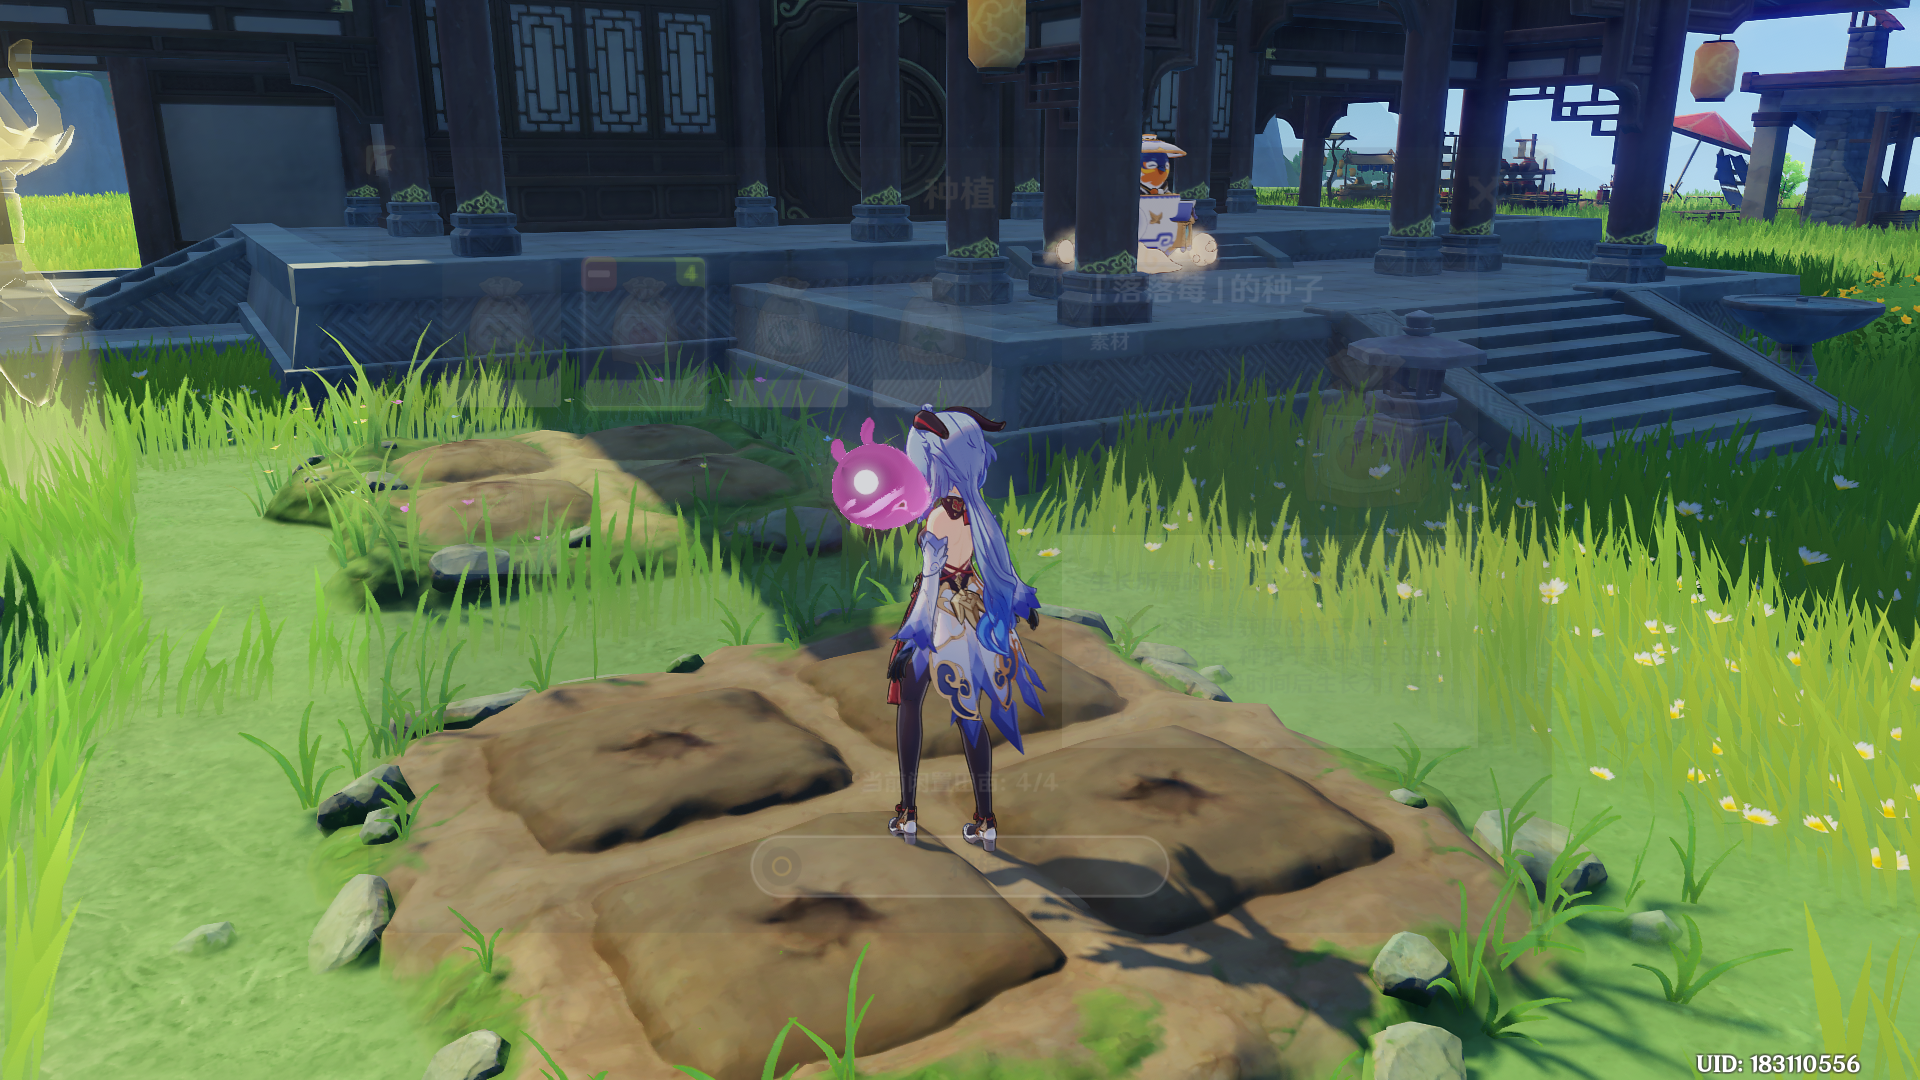character: (782, 345, 1093, 885)
